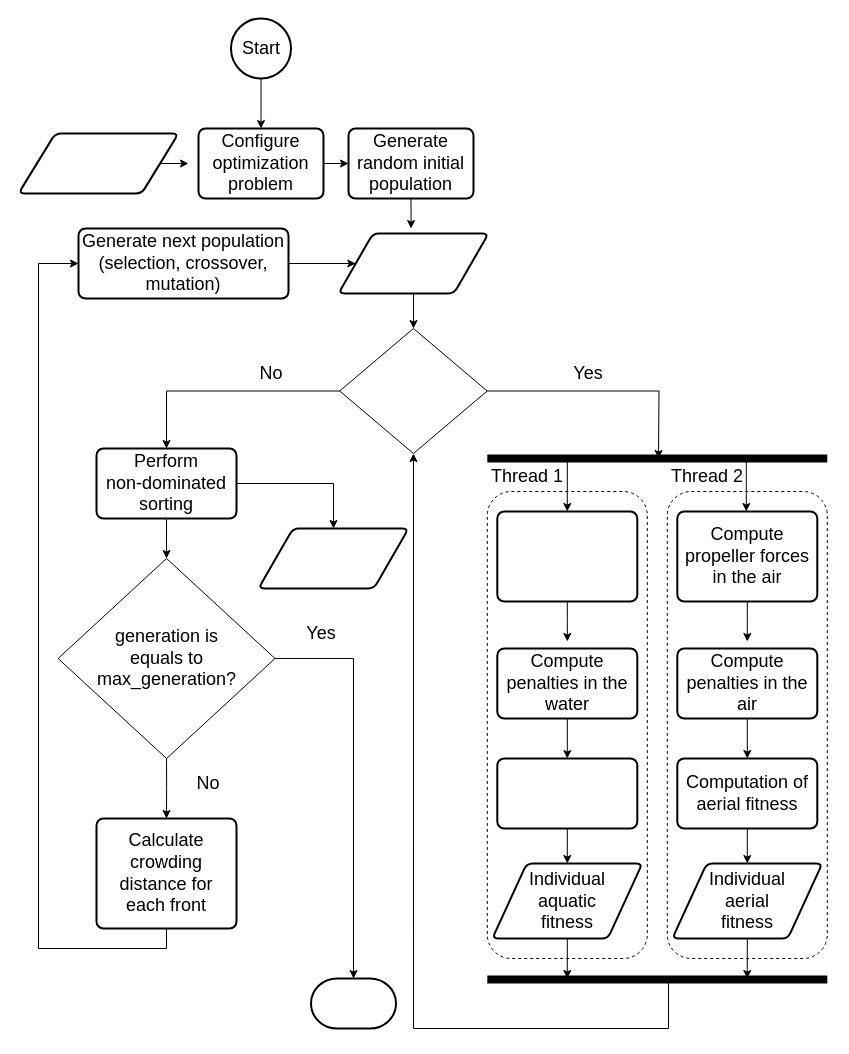
The diagram is 849 pixels wide and 1054 high, and some of its shapes have lost their labels. Here are the shapes that lost their labels. From the top down, the box of each, then its label:
(17, 132, 179, 194): Run configurations
(337, 232, 489, 294): Population
(339, 328, 487, 454): Any individuals left?
(257, 527, 409, 589): Pareto fronts
(496, 510, 638, 602): Compute propeller forces in the water
(496, 757, 638, 829): Computation of aquatic fitness
(310, 977, 396, 1029): End
